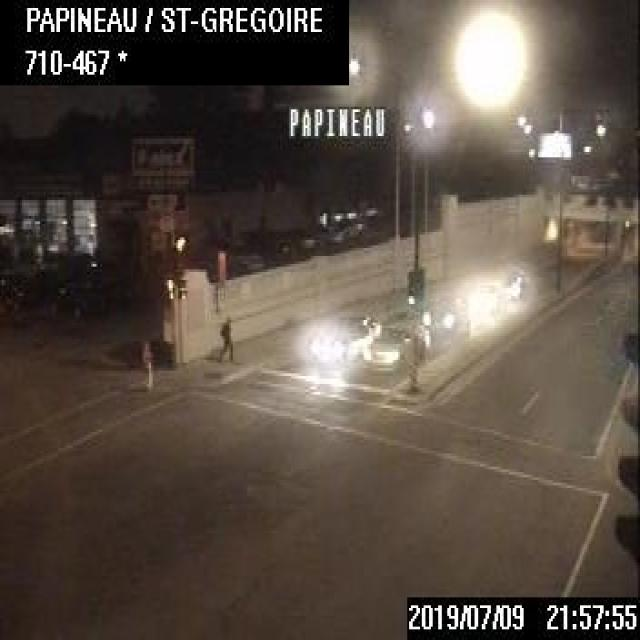pedestrian: (137, 335, 156, 390), (217, 315, 234, 360)
vehicle: (303, 306, 381, 366), (359, 307, 433, 365), (416, 291, 471, 337)
